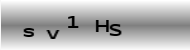1: (65, 14, 79, 28)
H: (94, 19, 109, 32)
S: (108, 23, 121, 36)
s: (23, 27, 34, 37)
v: (46, 29, 60, 40)
